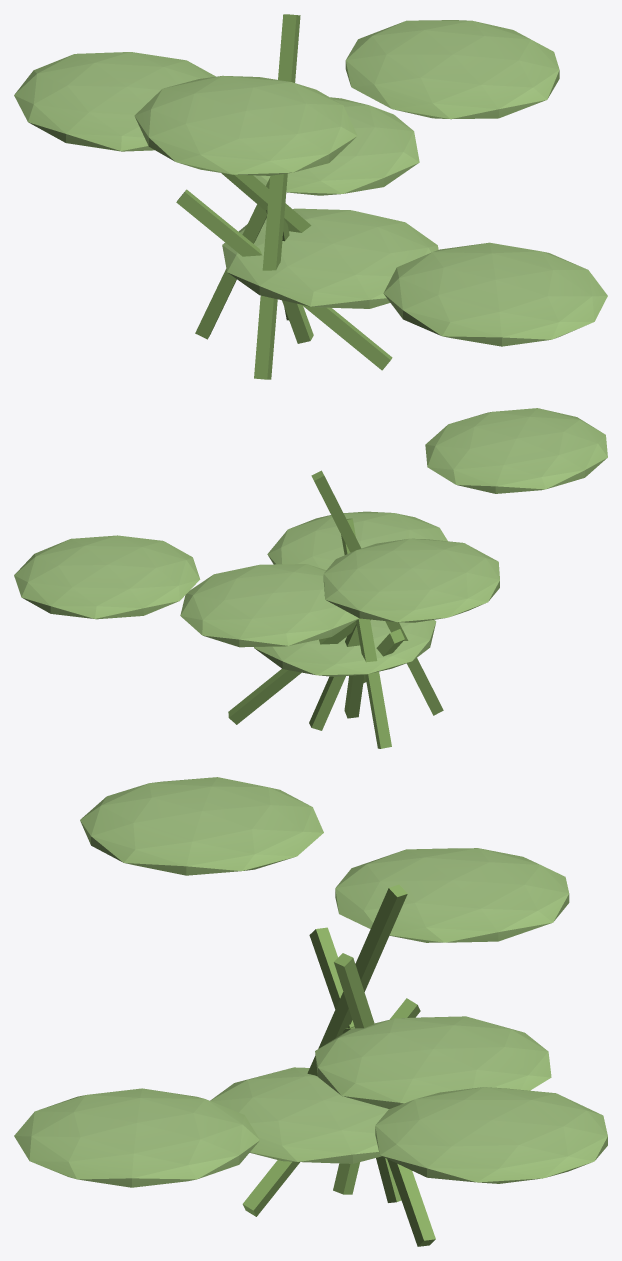
The model's file is bougainvillea-glabra.glb.
3 views of the same model, one above another, from view 1: azimuth 30°, elevation 25°; view 2: azimuth 150°, elevation 25°; view 3: azimuth 270°, elevation 25° (orthographic). The views are drawn at different scales.
Visible parts, largest first — view 1: leaf4, leaf3, leaf5, leaf0, leaf2, leaf1, runner3, runner4, runner2, runner5, runner0; view 2: leaf5, leaf3, leaf2, leaf1, leaf4, leaf0, runner3, runner2, runner5, runner1, runner0, runner4; view 3: leaf4, leaf3, leaf5, leaf2, leaf1, leaf0, runner5, runner3, runner4, runner2, runner0, runner1.
Boxes of the visible parts, <box> form: leaf4: <box>383,242,607,346</box>; leaf3: <box>134,75,357,175</box>; leaf5: <box>345,20,559,119</box>; leaf0: <box>222,208,438,308</box>; leaf2: <box>14,52,215,151</box>; leaf1: <box>253,97,419,195</box>; runner3: <box>254,14,300,379</box>; runner4: <box>176,189,392,370</box>; runner2: <box>195,178,269,339</box>; runner5: <box>221,173,311,232</box>; runner0: <box>282,300,313,343</box>; leaf5: <box>14,535,200,619</box>; leaf3: <box>425,408,607,493</box>; leaf2: <box>323,538,499,622</box>; leaf1: <box>180,564,358,647</box>; leaf4: <box>267,511,447,569</box>; leaf0: <box>254,619,436,676</box>; runner3: <box>311,470,443,715</box>; runner2: <box>341,518,391,748</box>; runner5: <box>228,621,356,724</box>; runner1: <box>309,619,370,730</box>; runner0: <box>344,674,364,718</box>; runner4: <box>363,629,404,683</box>; leaf4: <box>14,1088,259,1187</box>; leaf3: <box>80,777,323,875</box>; leaf5: <box>375,1087,607,1183</box>; leaf2: <box>335,848,569,942</box>; leaf1: <box>315,1016,551,1108</box>; leaf0: <box>210,1067,388,1163</box>; runner5: <box>309,927,435,1246</box>; runner3: <box>307,884,407,1076</box>; runner4: <box>242,998,420,1216</box>; runner2: <box>334,953,374,1028</box>; runner0: <box>333,1162,359,1194</box>; runner1: <box>342,1026,401,1202</box>.
Size of the model in its own units: 0.5631 by 0.319 by 0.5303.
